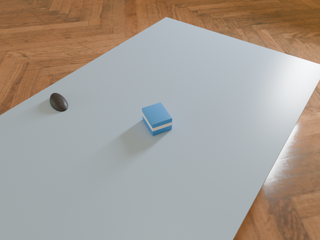box: (142, 103, 172, 136)
mouse: (50, 93, 68, 111)
